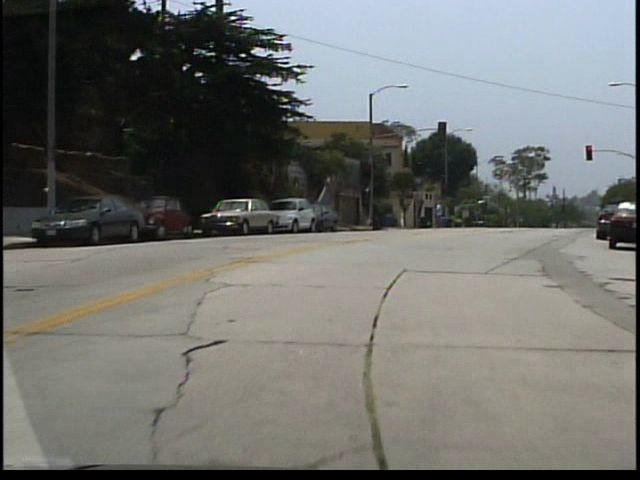person: (437, 201, 448, 230)
